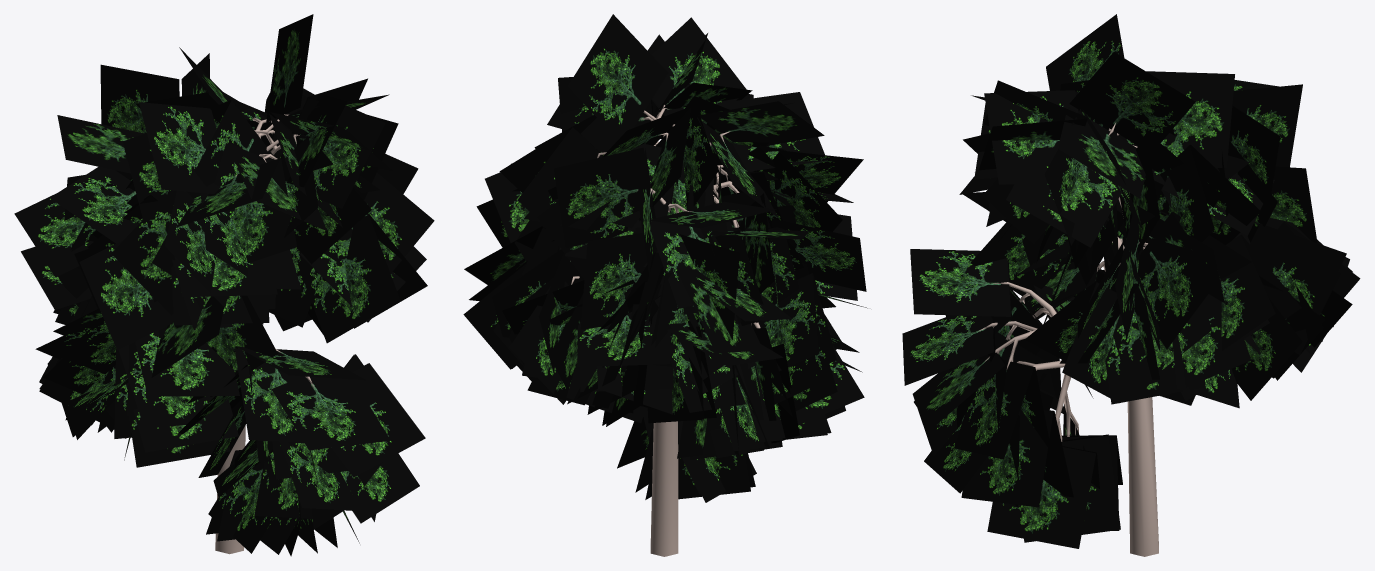
The model's file is tree.glb.
3 renders of one model, left to right at view 1: azimuth 30°, elevation 25°; view 2: azimuth 150°, elevation 25°; view 3: azimuth 270°, elevation 25°, orthographic. The views are drawn at different scales.
Size of the model in its own units: 4.79 by 6.7 by 5.23.
Materials: 2 (1 with a texture image).
